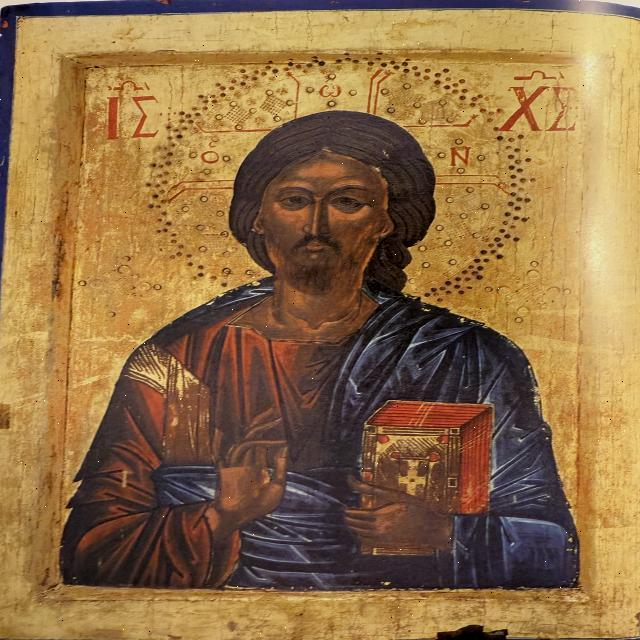aura: (146, 57, 535, 307)
book: (341, 387, 505, 553)
christ: (65, 56, 576, 591)
christ_hand: (165, 405, 304, 553)
